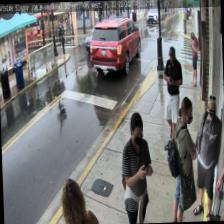person: (189, 93, 224, 220), (119, 111, 154, 223), (168, 96, 199, 222), (162, 45, 184, 146)
